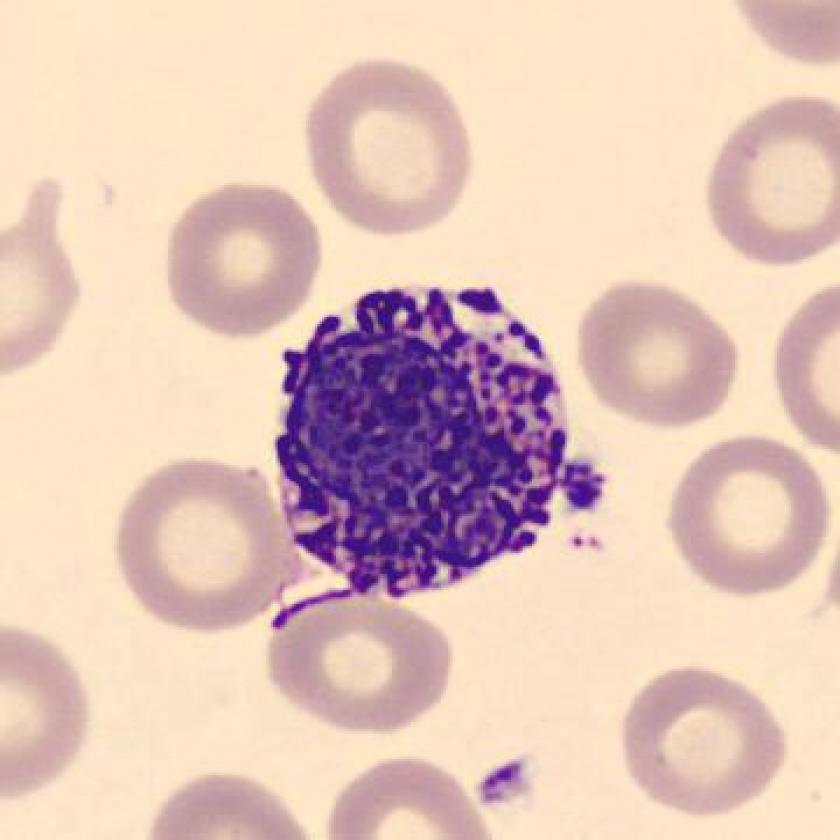basophil: (256, 279, 592, 605)
